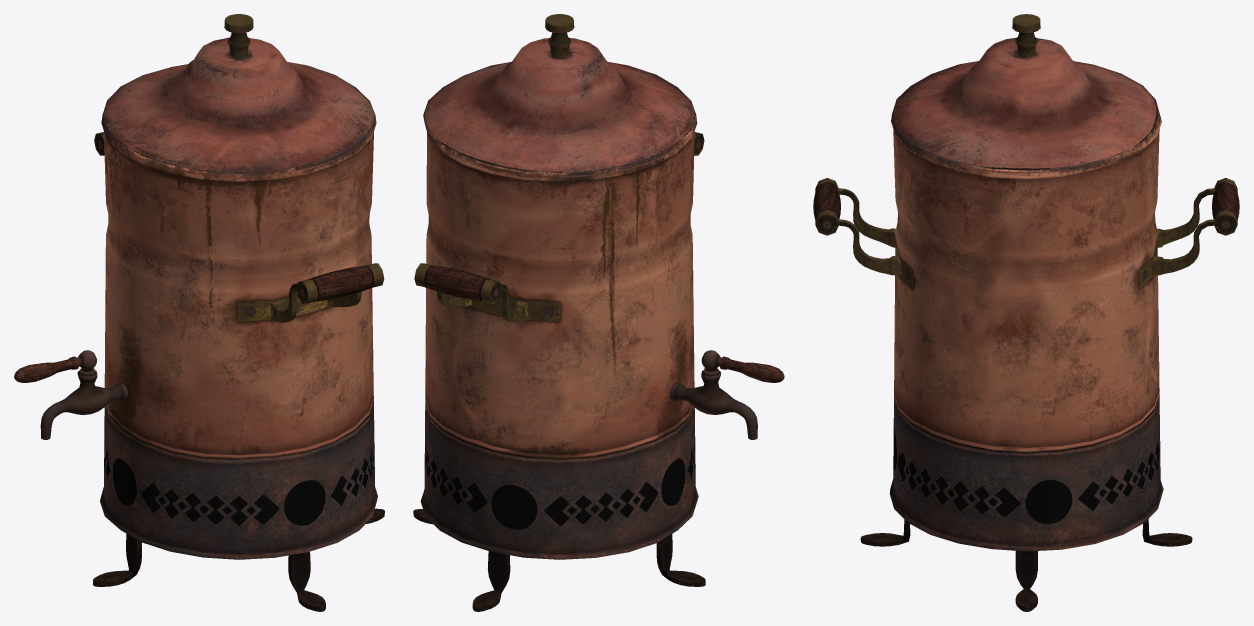
Rendered from urn_tea_copper.dae.
3 views of the same model, side by side, from view 1: azimuth 30°, elevation 25°; view 2: azimuth 150°, elevation 25°; view 3: azimuth 270°, elevation 25° (orthographic).
Parts seen in each view (by area): view 1: part_11_low, part_10_low, part_14_low, part_02_low, part_05_low, part_01_low, part_15_low, part_12_low; view 2: part_11_low, part_09_low, part_14_low, part_03_low, part_05_low, part_01_low, part_15_low, part_07_low; view 3: part_11_low, part_09_low, part_10_low, part_04_low, part_08_low, part_01_low, part_06_low, part_12_low, part_07_low, part_02_low, part_03_low.
Part boxes in pixels (x1,y1,x2,y2): part_11_low: (100, 37, 377, 559); part_10_low: (296, 263, 384, 303); part_14_low: (40, 368, 128, 439); part_02_low: (288, 551, 325, 611); part_05_low: (93, 533, 141, 586); part_01_low: (224, 14, 253, 58); part_15_low: (14, 356, 78, 382); part_12_low: (270, 283, 297, 322); part_11_low: (420, 38, 698, 559); part_09_low: (414, 263, 501, 303); part_14_low: (670, 368, 757, 439); part_03_low: (472, 551, 510, 611); part_05_low: (656, 534, 705, 586); part_01_low: (545, 14, 574, 58); part_15_low: (719, 356, 784, 382); part_07_low: (501, 284, 527, 322); part_11_low: (889, 37, 1163, 551); part_09_low: (1212, 178, 1239, 235); part_10_low: (813, 178, 840, 235); part_04_low: (1015, 550, 1037, 611); part_08_low: (838, 219, 900, 275); part_01_low: (1012, 14, 1040, 57); part_06_low: (1152, 219, 1214, 275); part_12_low: (838, 188, 895, 247); part_07_low: (1157, 188, 1214, 247); part_02_low: (860, 519, 910, 546); part_03_low: (1142, 519, 1192, 546).
Size of the model in its own units: 54.42 by 74.67 by 55.23.
